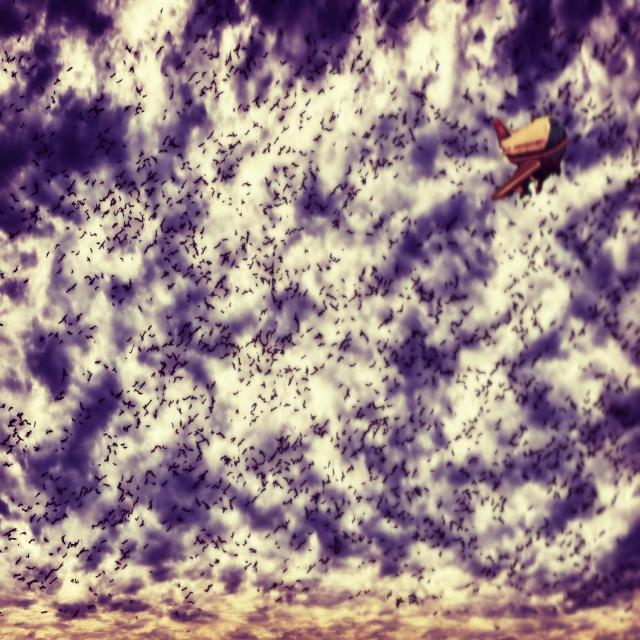airplane: (490, 112, 568, 201)
